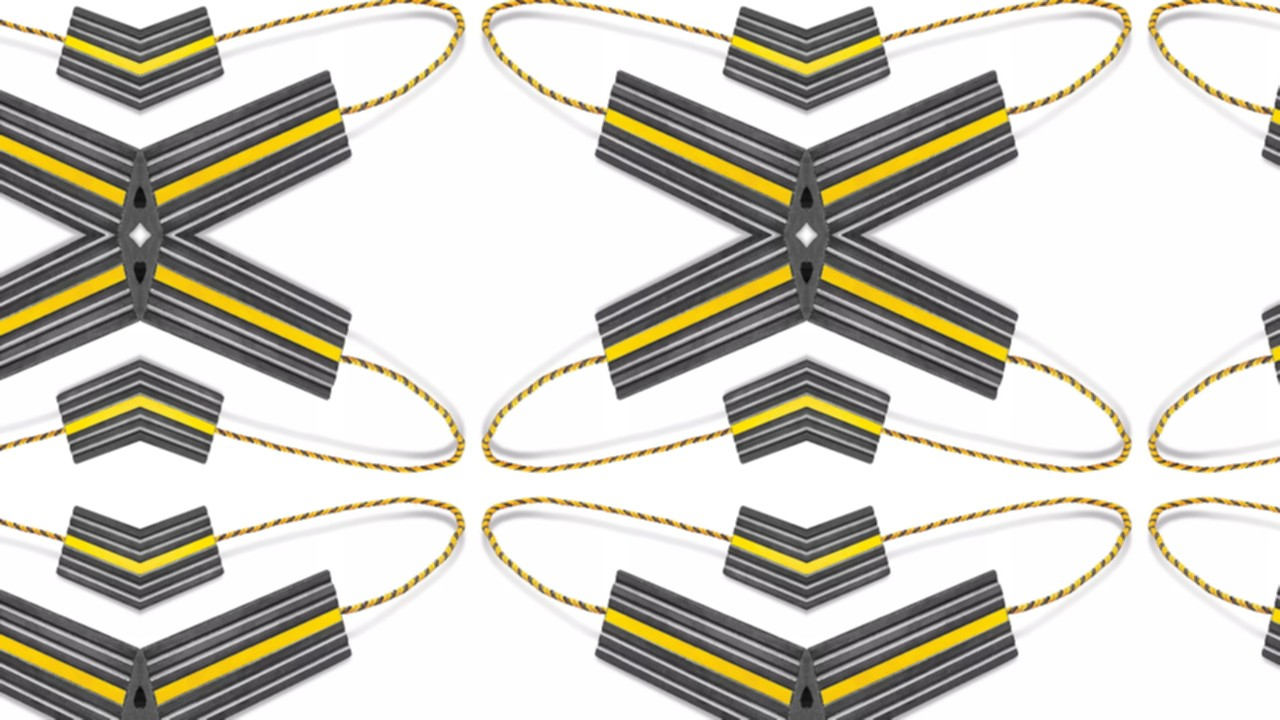chock: (140, 66, 371, 235), (576, 66, 807, 235), (807, 66, 1038, 235), (140, 235, 371, 404), (576, 235, 807, 404), (807, 235, 1038, 404), (140, 566, 371, 720), (576, 566, 807, 720), (807, 566, 1038, 720), (0, 66, 140, 235), (0, 235, 140, 404), (0, 566, 140, 720), (35, 2, 140, 149), (702, 2, 807, 149), (35, 321, 140, 468), (702, 321, 807, 468), (35, 502, 140, 649), (702, 502, 807, 649), (140, 2, 244, 149), (807, 2, 911, 149), (140, 321, 244, 468), (807, 321, 911, 468), (140, 502, 244, 649), (807, 502, 911, 649), (1243, 66, 1280, 235), (1243, 235, 1280, 404), (1243, 566, 1280, 720)
